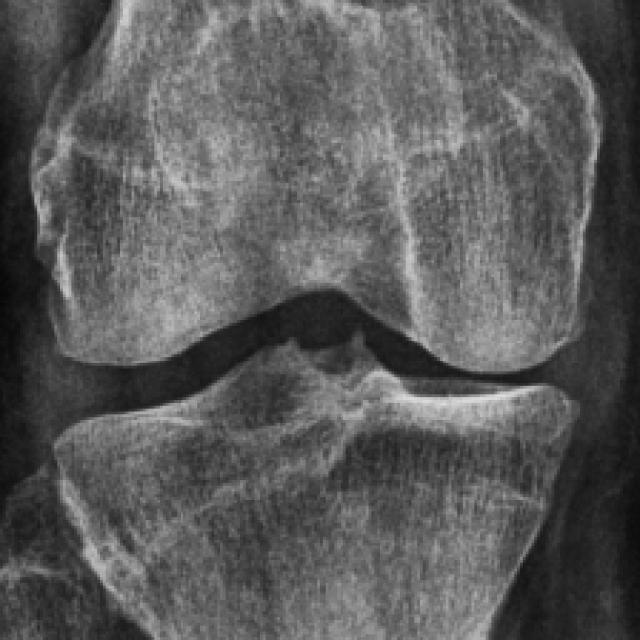femur: (29, 0, 607, 373)
tibia: (57, 343, 571, 637)
